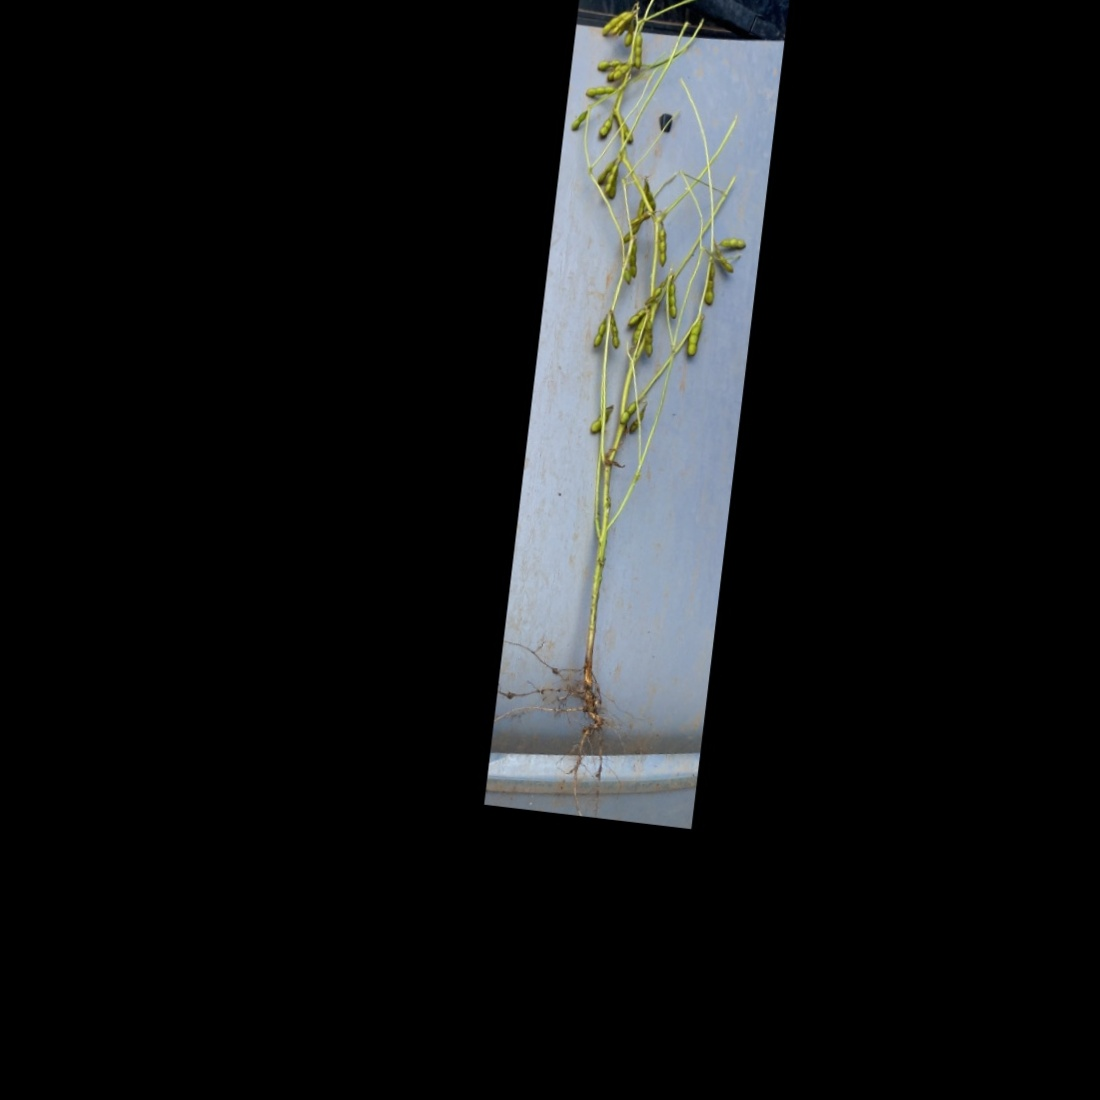pod: (684, 311, 707, 360), (652, 221, 674, 270), (587, 400, 614, 437), (702, 263, 721, 308), (639, 318, 659, 361), (712, 245, 738, 276), (625, 240, 644, 282), (664, 280, 682, 323), (717, 228, 748, 252), (583, 81, 618, 102), (589, 316, 609, 350), (631, 32, 648, 71), (607, 315, 624, 353), (616, 398, 638, 426), (571, 105, 589, 135), (596, 112, 615, 140), (621, 17, 637, 50)
soy: (500, 0, 778, 755)
